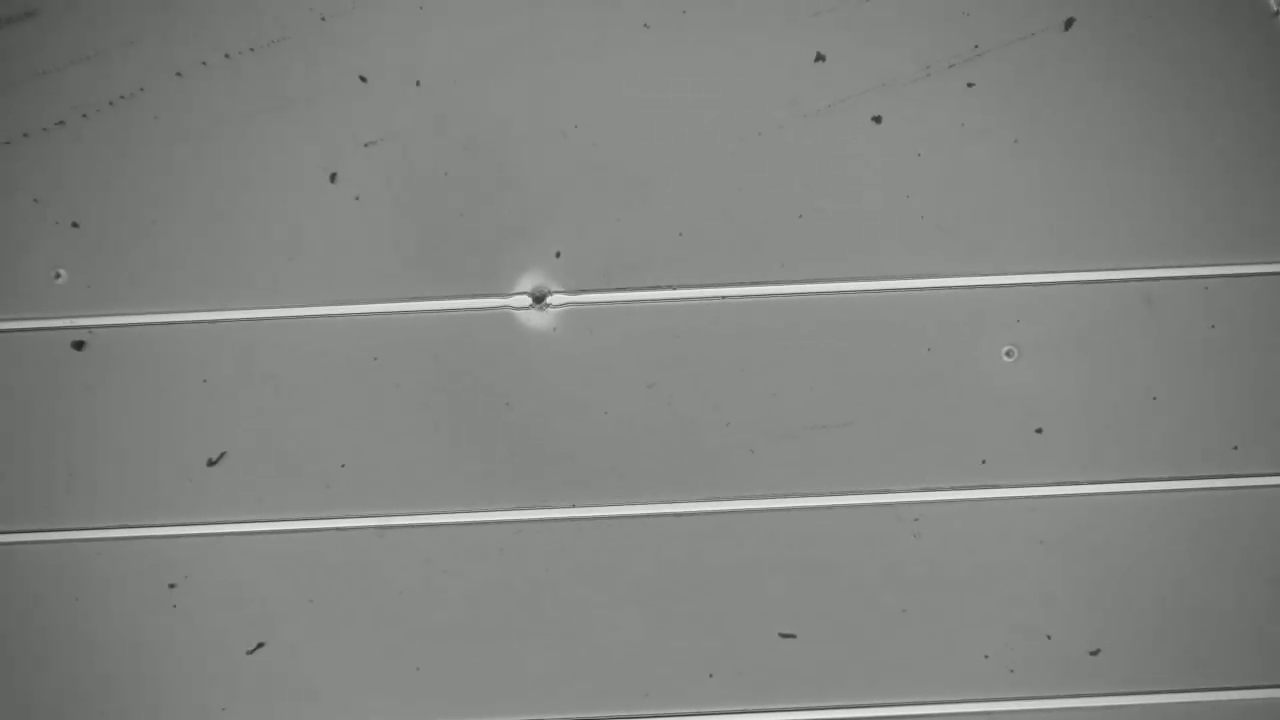stains_enbedded: (520, 277, 564, 321)
